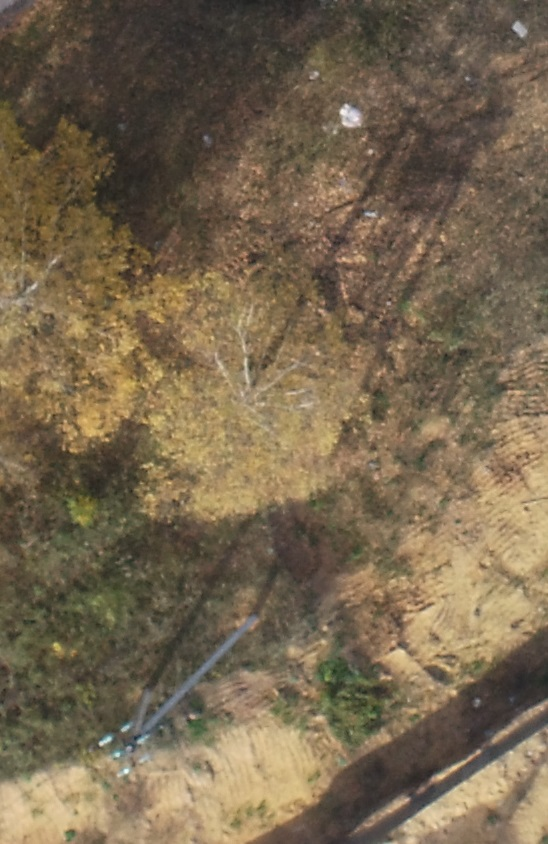opora: (99, 571, 273, 783)
